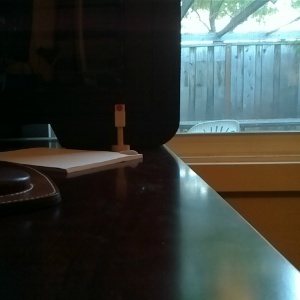traffic light red: (109, 98, 131, 154)
